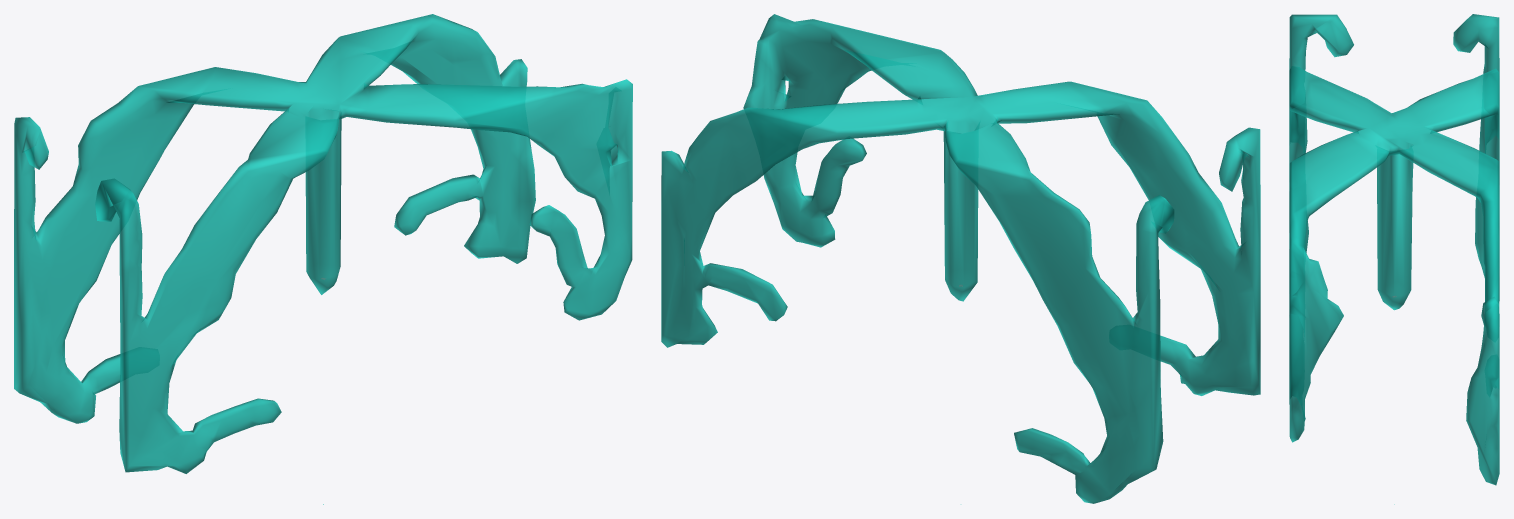
3 views of the same model, side by side, from view 1: azimuth 30°, elevation 25°; view 2: azimuth 150°, elevation 25°; view 3: azimuth 270°, elevation 25° (orthographic). The views are drawn at different scales.
Visible parts, largest first — view 1: Liquid_Domain; view 2: Liquid_Domain; view 3: Liquid_Domain.
Boxes of the visible parts, x1,y1,x2,y2 form: Liquid_Domain: [14, 14, 632, 473]; Liquid_Domain: [661, 14, 1260, 503]; Liquid_Domain: [1289, 14, 1499, 485].
Bounding box in the file's own units: 884 × 683 × 344.
